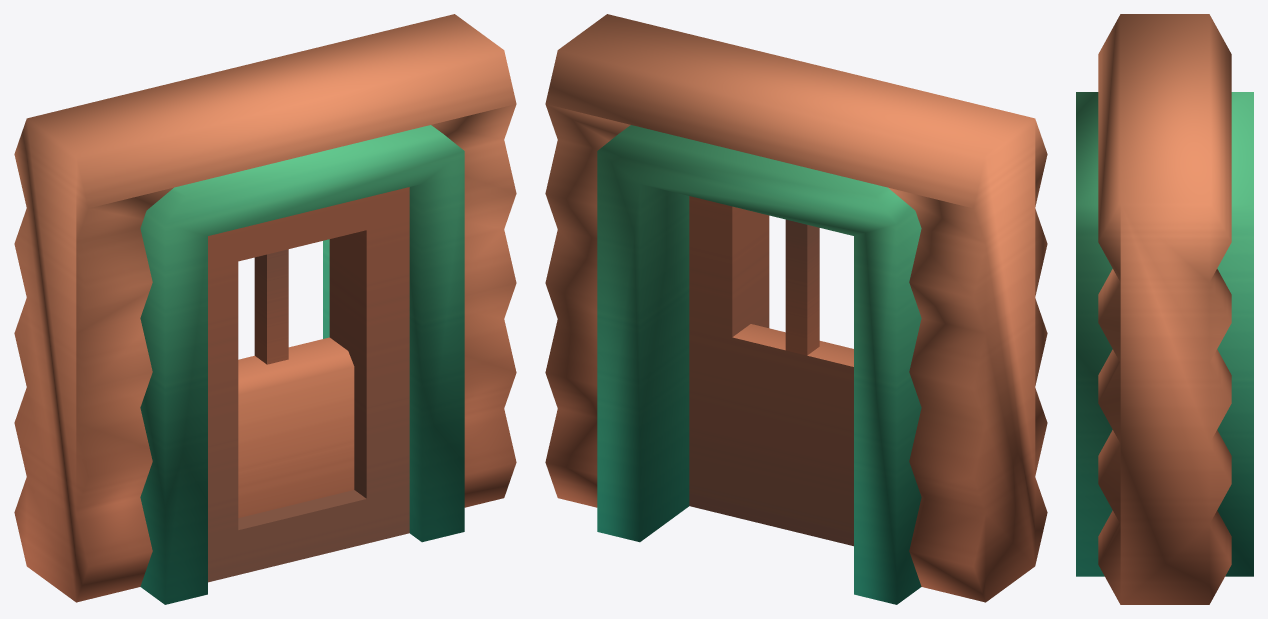
File: cabin-door-rotate_lev3.glb
3 renders of one model, left to right at view 1: azimuth 30°, elevation 25°; view 2: azimuth 150°, elevation 25°; view 3: azimuth 270°, elevation 25°, orthographic. The views are drawn at different scales.
Visible parts, largest first — view 1: cabin-door-rotate_lev3; view 2: cabin-door-rotate_lev3; view 3: cabin-door-rotate_lev3.
Part boxes in pixels (x1=…): cabin-door-rotate_lev3: x1=14, y1=14, x2=516, y2=604; cabin-door-rotate_lev3: x1=545, y1=14, x2=1047, y2=604; cabin-door-rotate_lev3: x1=1076, y1=14, x2=1253, y2=604.
Size of the model in its own units: 6 by 6 by 2.4.
1 material, 1 textured.
